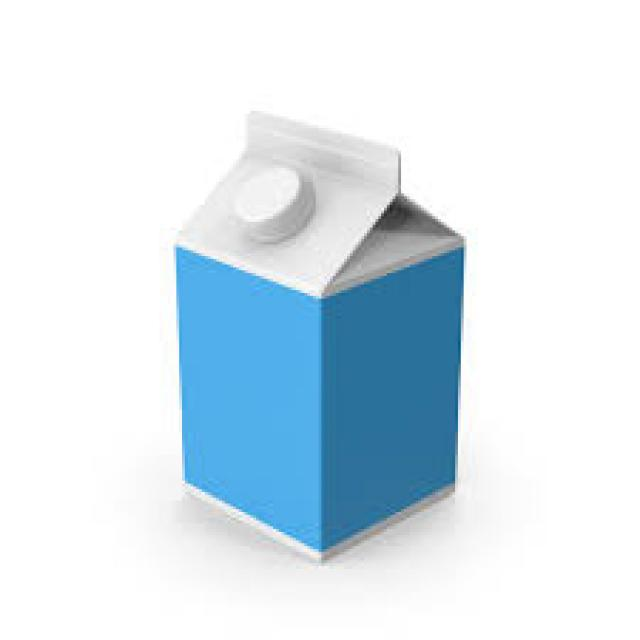non_white_jug: (162, 87, 475, 570)
